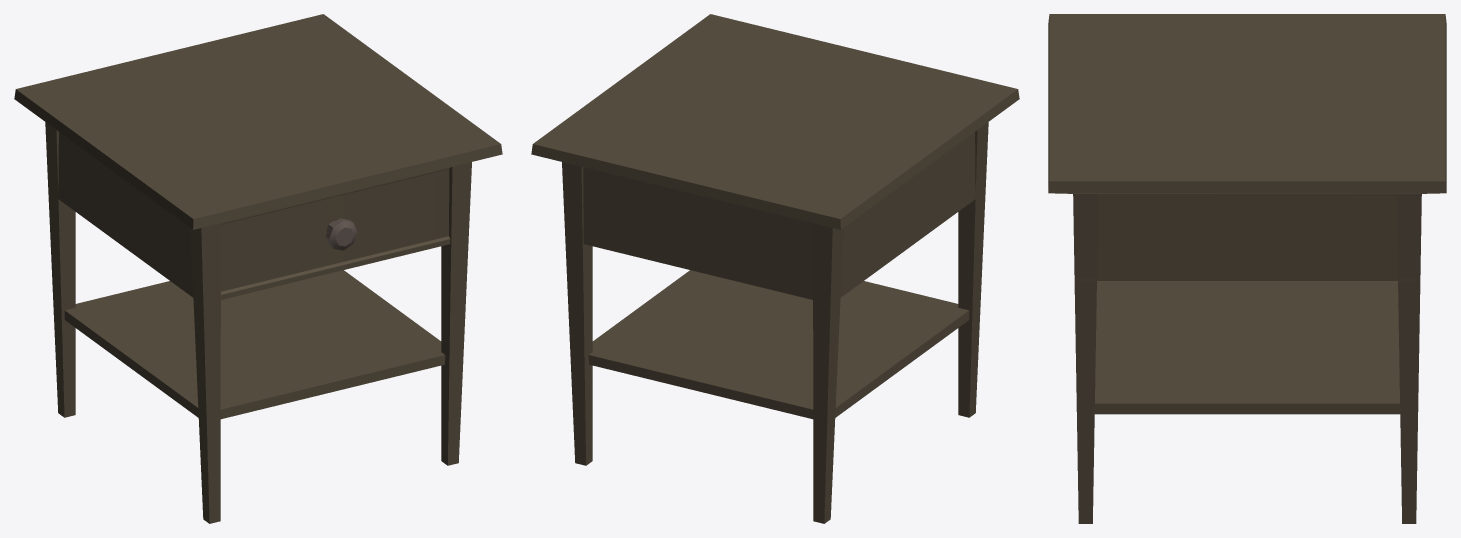
Rendered from NightStand_2.glb.
The picture shows the model from 3 angles, left to right: view 1: azimuth 30°, elevation 25°; view 2: azimuth 150°, elevation 25°; view 3: azimuth 270°, elevation 25°; orthographic projection. The views are drawn at different scales.
Visible parts, largest first — view 1: NightStand_2; view 2: NightStand_2; view 3: NightStand_2.
Part boxes in pixels (x1,y1,x2,y2): NightStand_2: (14, 14, 502, 523); NightStand_2: (531, 14, 1019, 523); NightStand_2: (1048, 14, 1446, 523).
Size of the model in its own units: 0.4656 by 0.4622 by 0.4656.
Materials: 2 (2 with a texture image).
